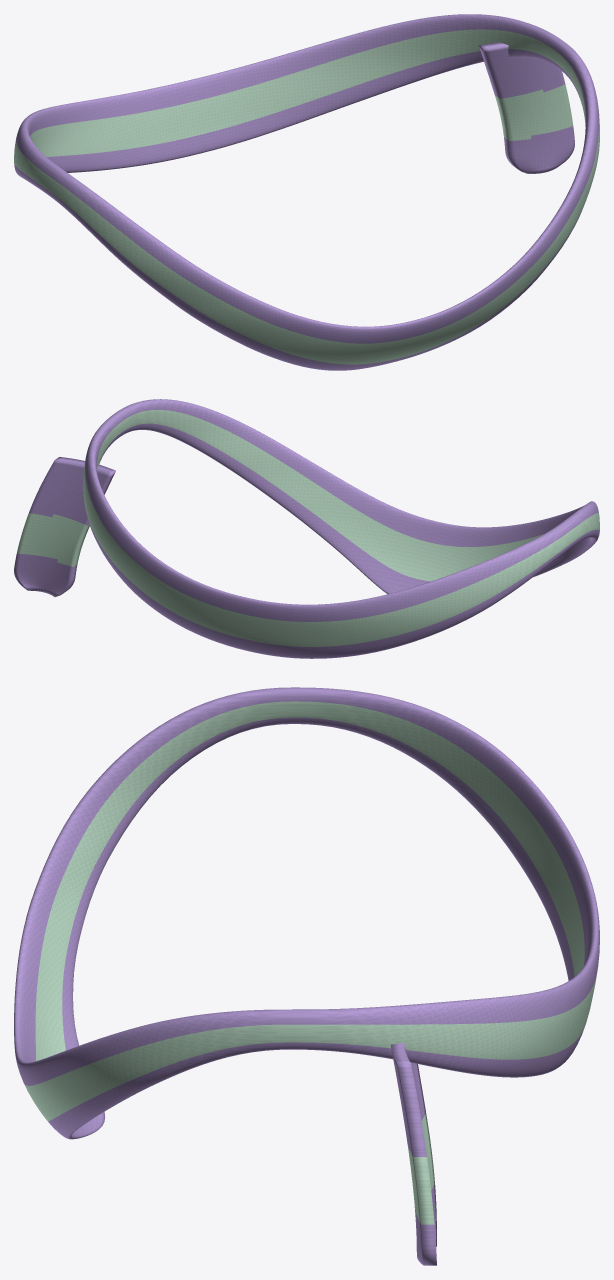
The model's file is scarf.glb.
3 views of the same model, one above another, from view 1: azimuth 30°, elevation 25°; view 2: azimuth 150°, elevation 25°; view 3: azimuth 270°, elevation 25° (orthographic). The views are drawn at different scales.
Parts seen in each view (by area): view 1: scarf_collar, scarf_tail; view 2: scarf_collar, scarf_tail; view 3: scarf_collar, scarf_tail.
Boxes of the visible parts, x1=… form: scarf_collar: x1=14, y1=14, x2=599, y2=370; scarf_tail: x1=479, y1=42, x2=574, y2=173; scarf_collar: x1=83, y1=399, x2=599, y2=658; scarf_tail: x1=14, y1=457, x2=115, y2=596; scarf_collar: x1=14, y1=687, x2=599, y2=1139; scarf_tail: x1=391, y1=1042, x2=436, y2=1265.
Size of the model in its own units: 2.33 by 0.795 by 1.57.
2 materials, 2 textured.
